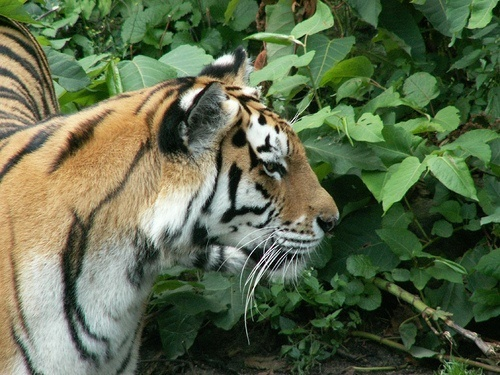tigre: (1, 8, 345, 373)
